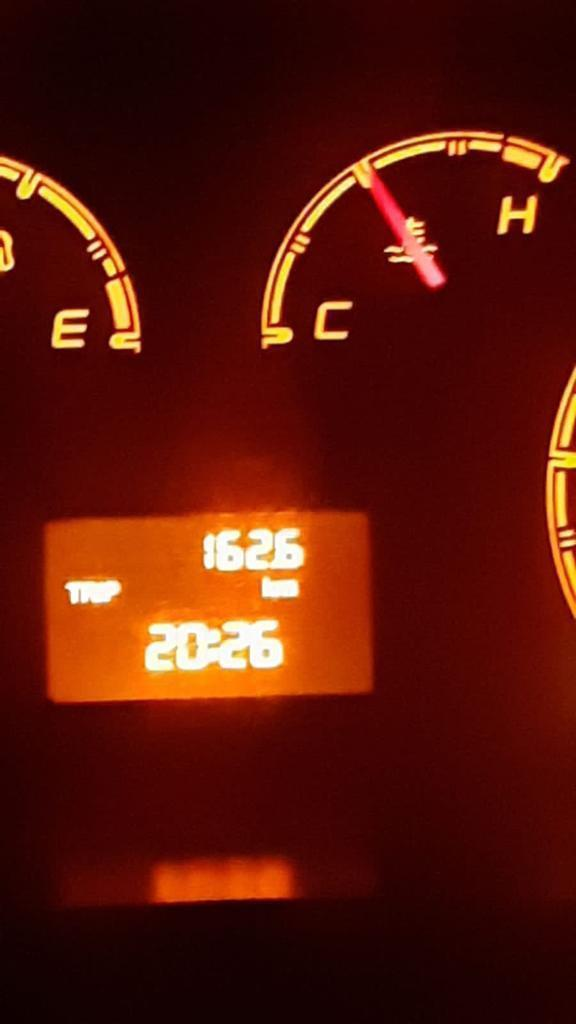,: (268, 556, 277, 572)
0: (177, 620, 207, 671)
1: (201, 530, 216, 571)
2: (144, 621, 174, 673), (220, 619, 250, 669), (244, 525, 274, 571)
6: (250, 618, 283, 670), (276, 528, 307, 569), (215, 529, 243, 570)
X: (278, 578, 300, 600), (107, 578, 124, 605), (208, 624, 219, 665), (81, 579, 97, 607), (64, 579, 80, 606), (261, 574, 277, 599), (97, 578, 106, 606)
odometer: (34, 504, 382, 707)
